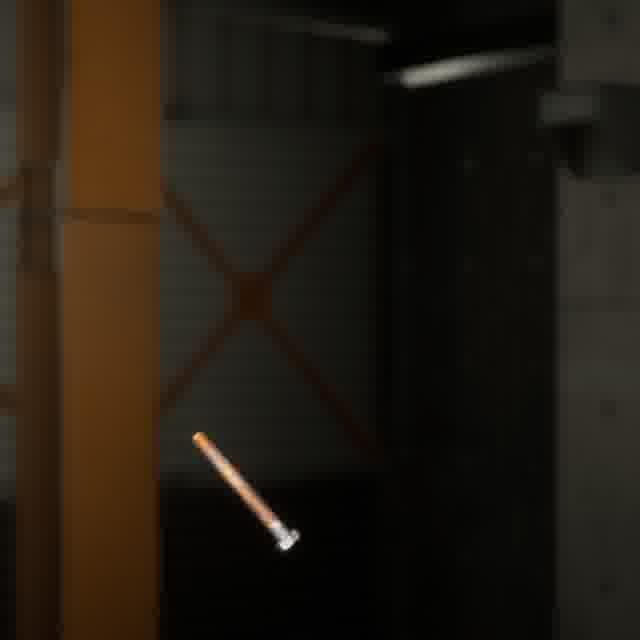bolt: (186, 426, 304, 556)
